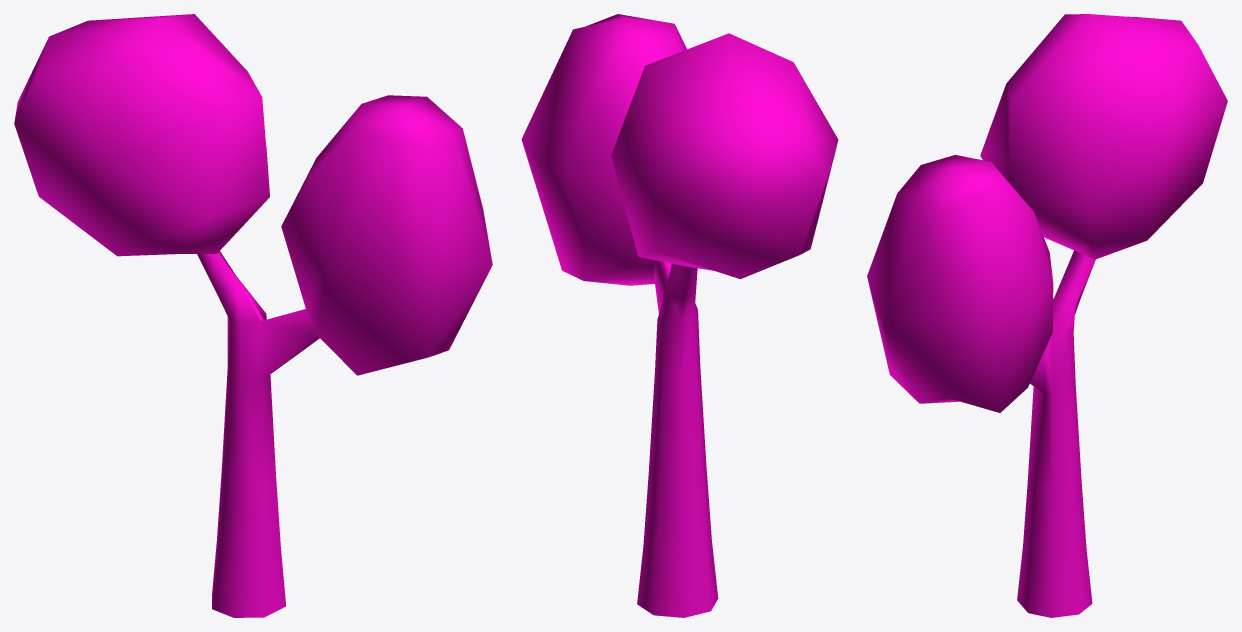
The model's file is Arbol 4.fbx.
The picture shows the model from 3 angles, left to right: view 1: azimuth 30°, elevation 25°; view 2: azimuth 150°, elevation 25°; view 3: azimuth 270°, elevation 25°; orthographic projection. The views are drawn at different scales.
Visible parts, largest first — view 1: Arbol_5_Low; view 2: Arbol_5_Low; view 3: Arbol_5_Low.
Boxes of the visible parts, <box> form: Arbol_5_Low: <box>14,14,492,617</box>; Arbol_5_Low: <box>521,14,838,617</box>; Arbol_5_Low: <box>867,14,1227,617</box>.
Bounding box in the file's own units: 606 × 904 × 531.
